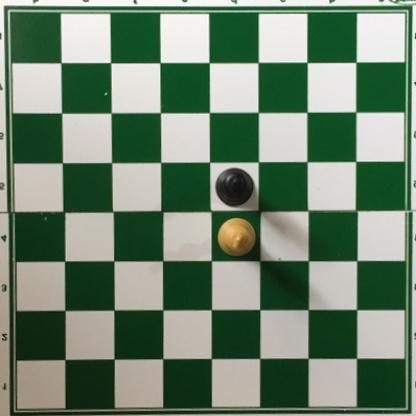black-king: (216, 165, 253, 205)
white-king: (216, 216, 257, 258)
